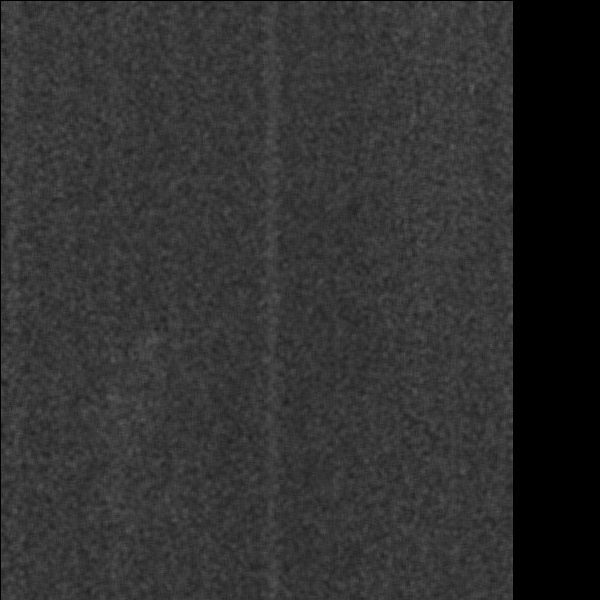spark: (306, 122, 348, 152)
